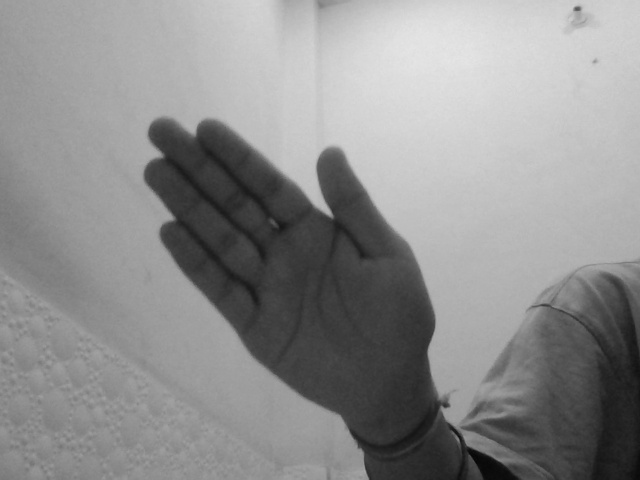Hello: (137, 110, 440, 420)
